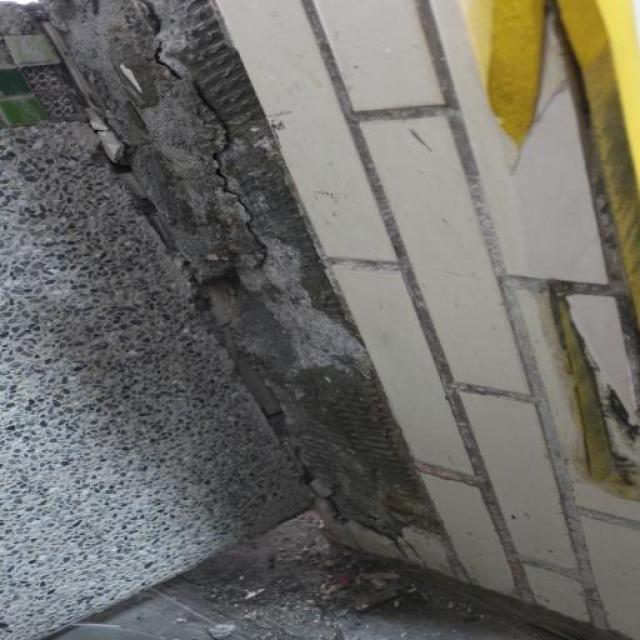D10: (34, 0, 439, 540)
